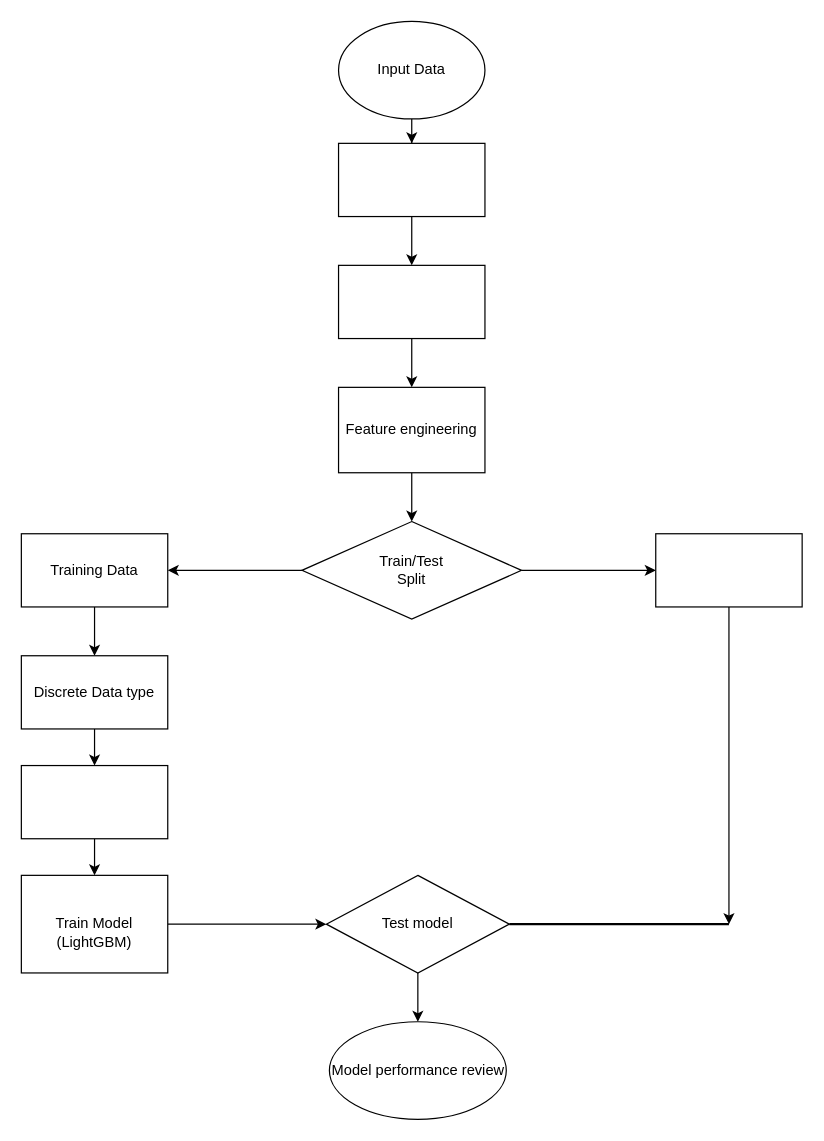
This 824x1141 diagram has some shape labels left out. Here are the shapes that lost their labels. From the top down, the box of each, then its label:
(337, 142, 485, 217): Data Analysis
(337, 264, 485, 339): Pre-processing Data
(655, 533, 802, 607): Testing Data
(20, 764, 168, 839): Classification Problem
